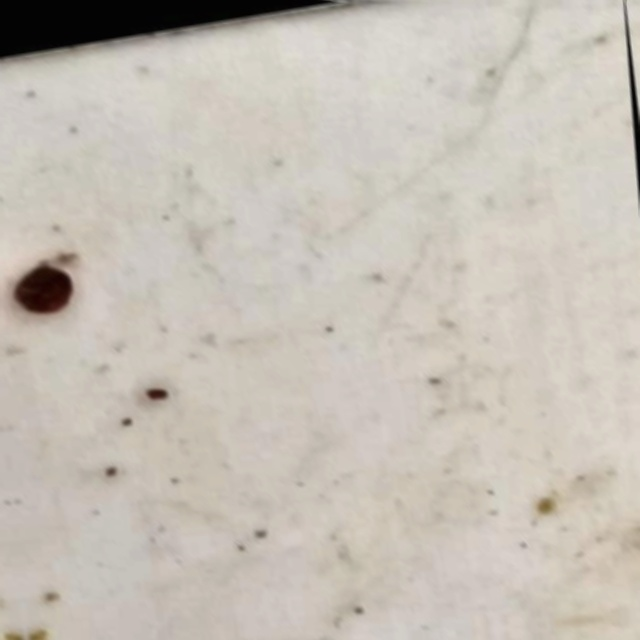varroa: (9, 252, 75, 312)
